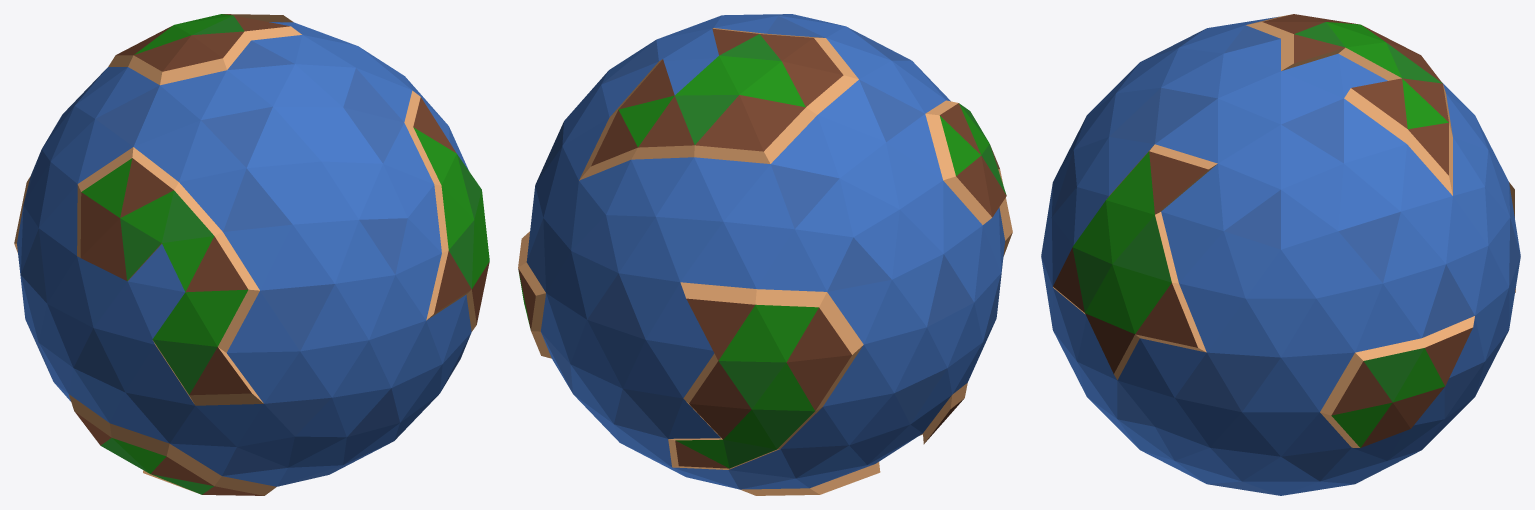
The model's file is Planet.fbx.
3 renders of one model, left to right at view 1: azimuth 30°, elevation 25°; view 2: azimuth 150°, elevation 25°; view 3: azimuth 270°, elevation 25°, orthographic. The views are drawn at different scales.
Visible parts, largest first — view 1: Planet; view 2: Planet; view 3: Planet.
Boxes of the visible parts, x1,y1,x2,y2 form: Planet: (14, 14, 489, 495); Planet: (518, 14, 1012, 495); Planet: (1041, 14, 1520, 495).
Size of the model in its own units: 14349 by 14716 by 14349.
